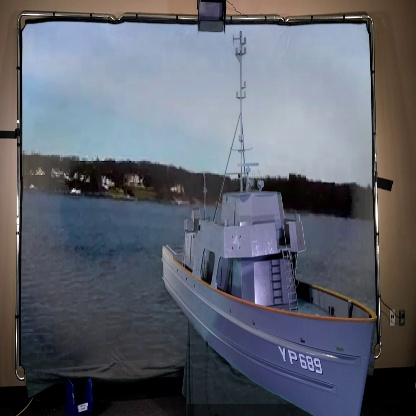YP689: (161, 34, 378, 416)
